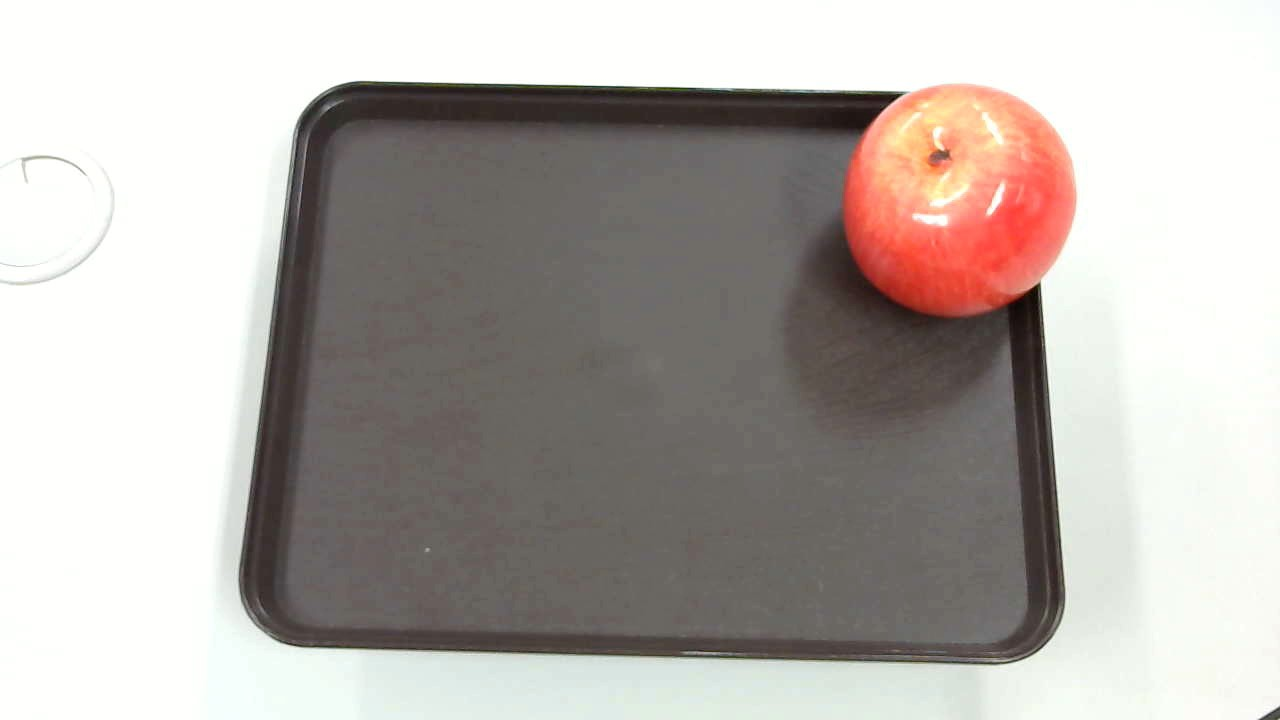red apple: (834, 78, 1078, 325)
